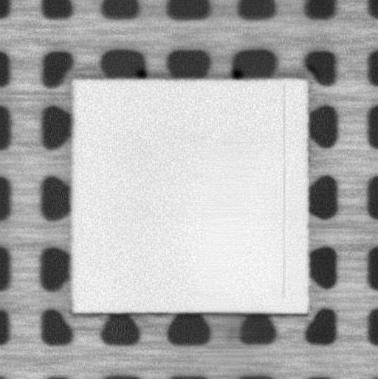DIE_CRACK: (277, 83, 290, 299)
